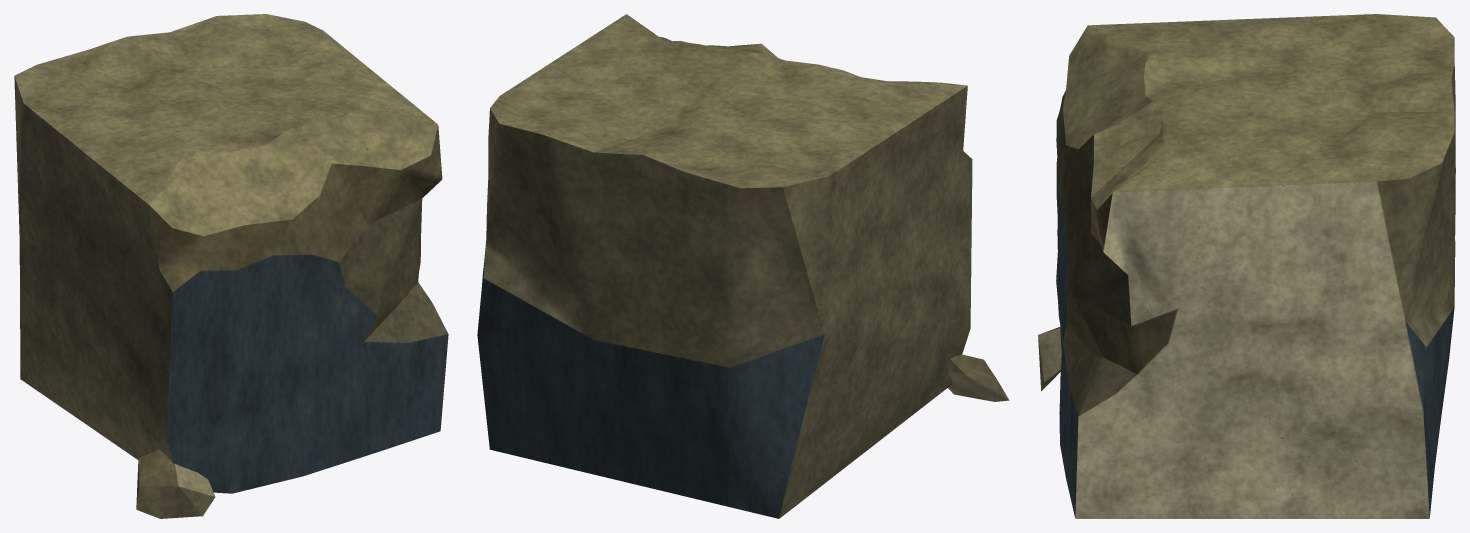
The model's file is OrirockCube_Refined.fbx.
The picture shows the model from 3 angles, left to right: view 1: azimuth 30°, elevation 25°; view 2: azimuth 150°, elevation 25°; view 3: azimuth 270°, elevation 25°; orthographic projection. The views are drawn at different scales.
Parts seen in each view (by area): view 1: OrirockCube_Body, OrirockCube_Chip; view 2: OrirockCube_Body, OrirockCube_Chip; view 3: OrirockCube_Body, OrirockCube_Chip.
Part boxes in pixels (<box>): OrirockCube_Body: <box>14,14,448,493</box>; OrirockCube_Chip: <box>136,449,215,518</box>; OrirockCube_Body: <box>477,14,972,518</box>; OrirockCube_Chip: <box>948,354,1009,401</box>; OrirockCube_Body: <box>1056,14,1455,518</box>; OrirockCube_Chip: <box>1038,327,1061,391</box>.
Size of the model in its own units: 138 by 131 by 134.
